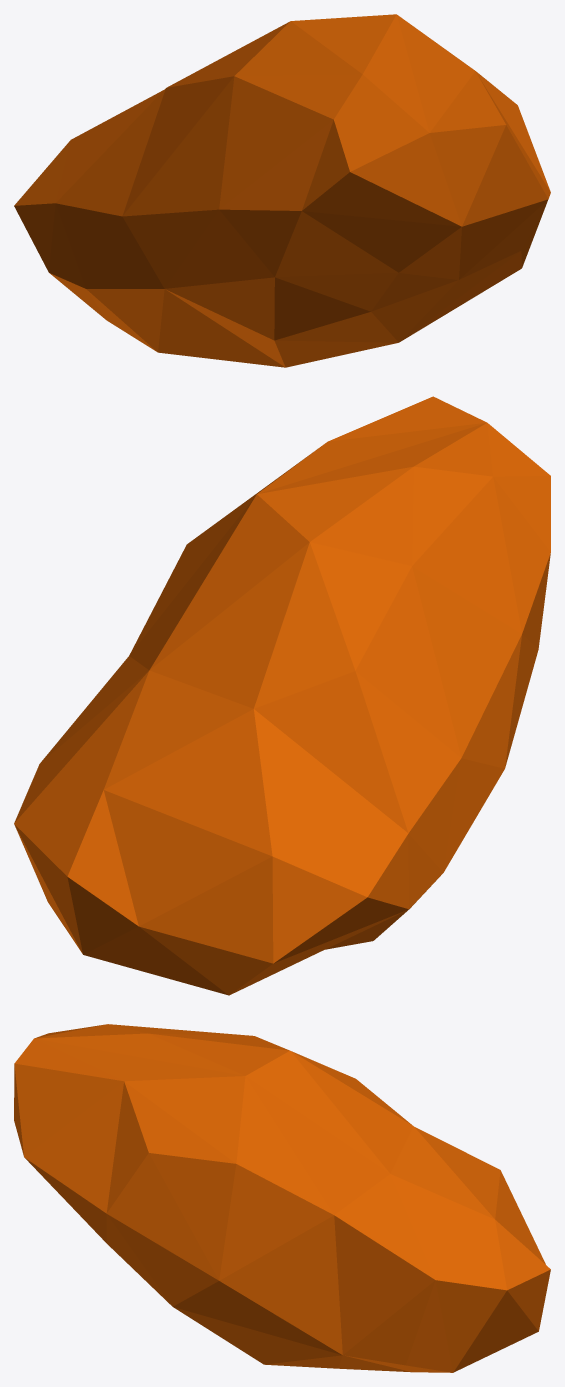
The model's file is 230-Re-reuniens thalamic nucleus-('1.0000', '0.4588', '0.0000').obj.
3 views of the same model, one above another, from view 1: azimuth 30°, elevation 25°; view 2: azimuth 150°, elevation 25°; view 3: azimuth 270°, elevation 25° (orthographic). The views are drawn at different scales.
Bounding box in the file's own units: 14.44 × 14.27 × 23.56.
